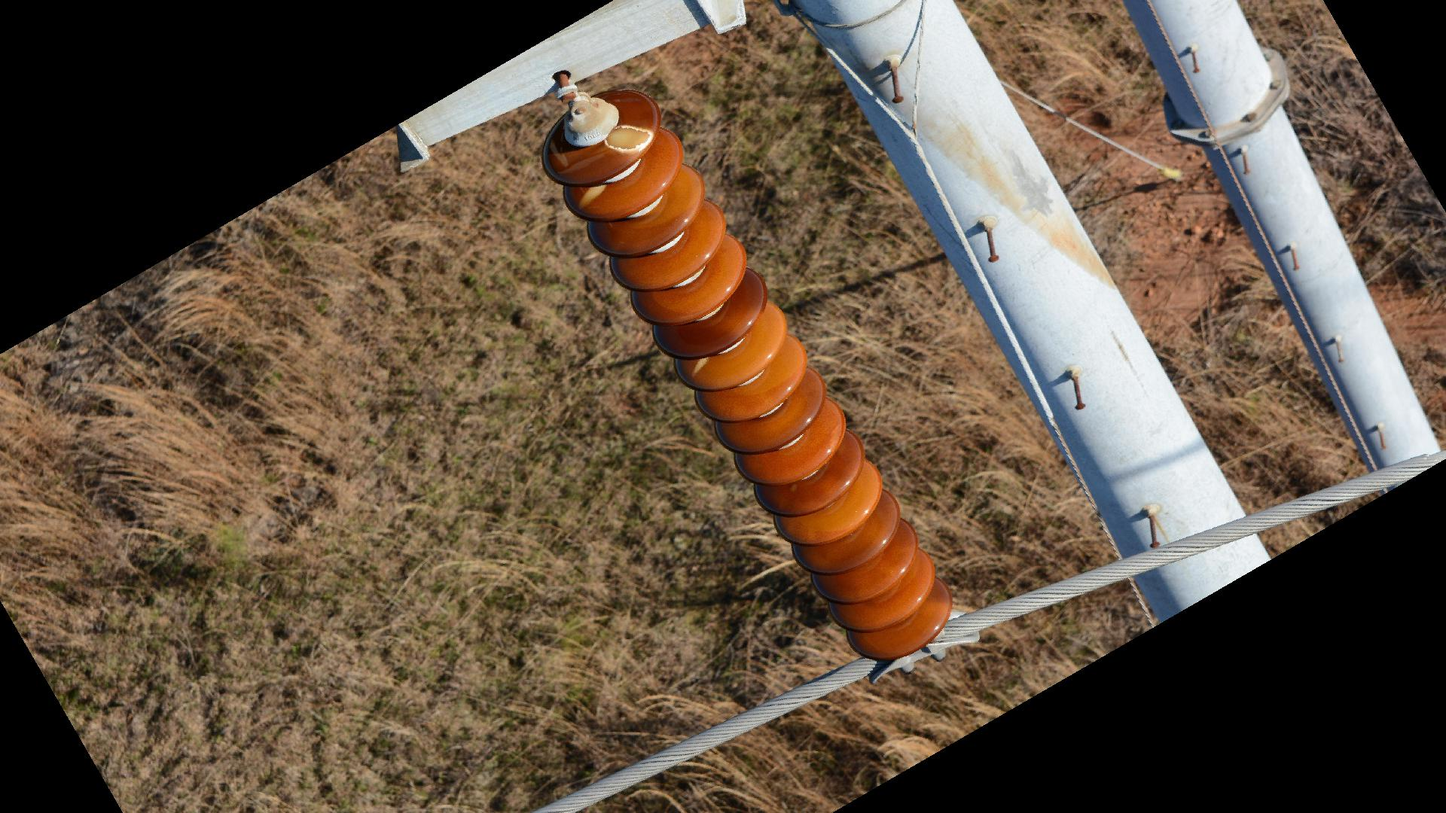insulator: (538, 80, 957, 668)
insulator_flashover: (602, 122, 655, 155), (575, 181, 609, 213), (688, 355, 712, 382)
